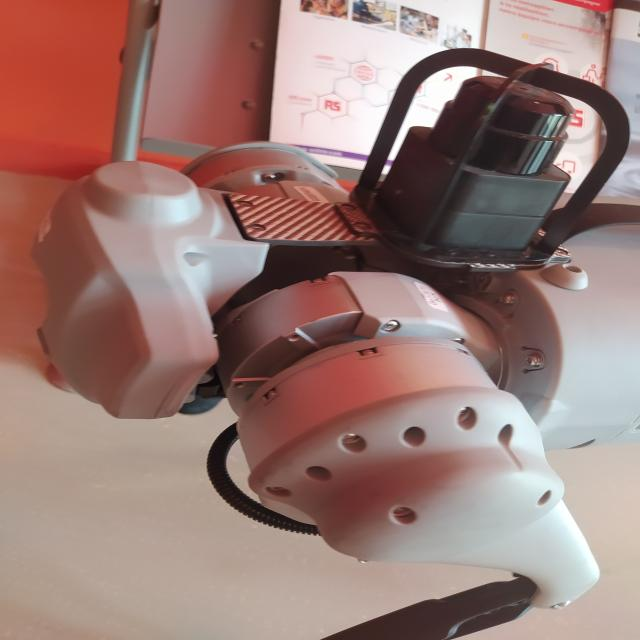unitree-go1-robot: (28, 42, 640, 640)
